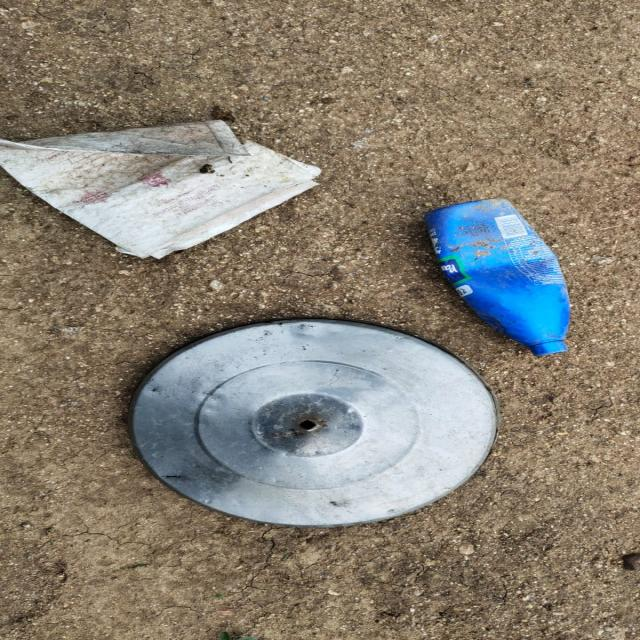metal: (110, 334, 494, 538)
paper: (12, 110, 341, 263)
plastic: (409, 203, 640, 380)
